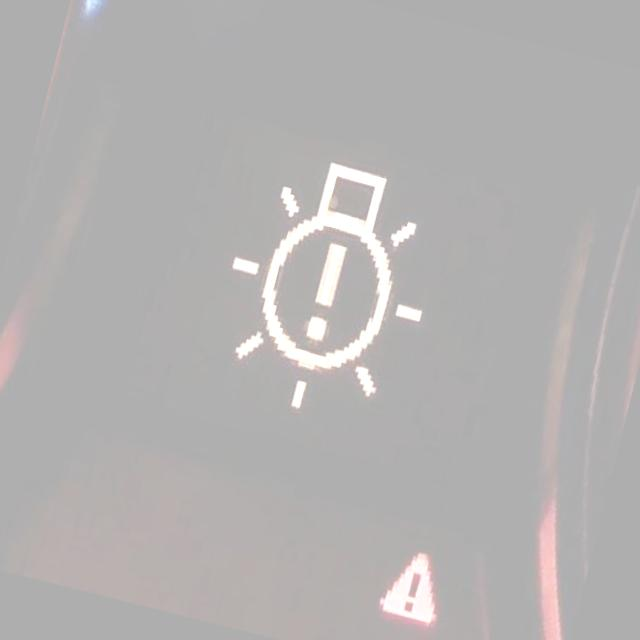kontrolka: (176, 118, 470, 472)
